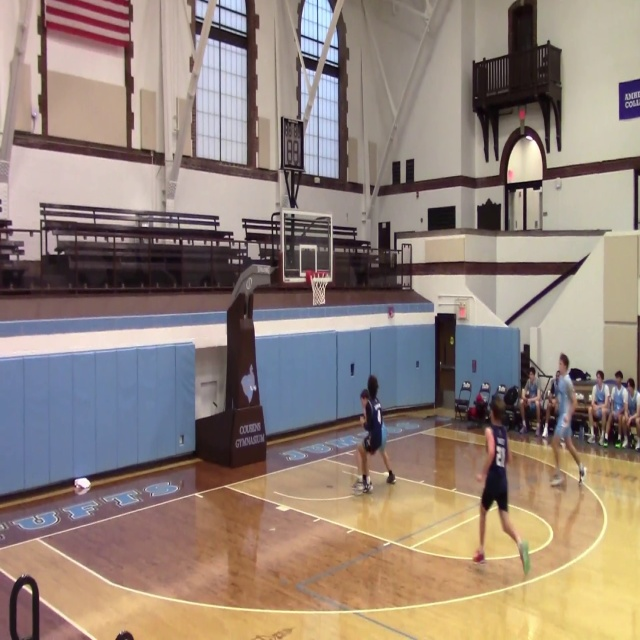Basketball: (74, 477, 90, 490)
